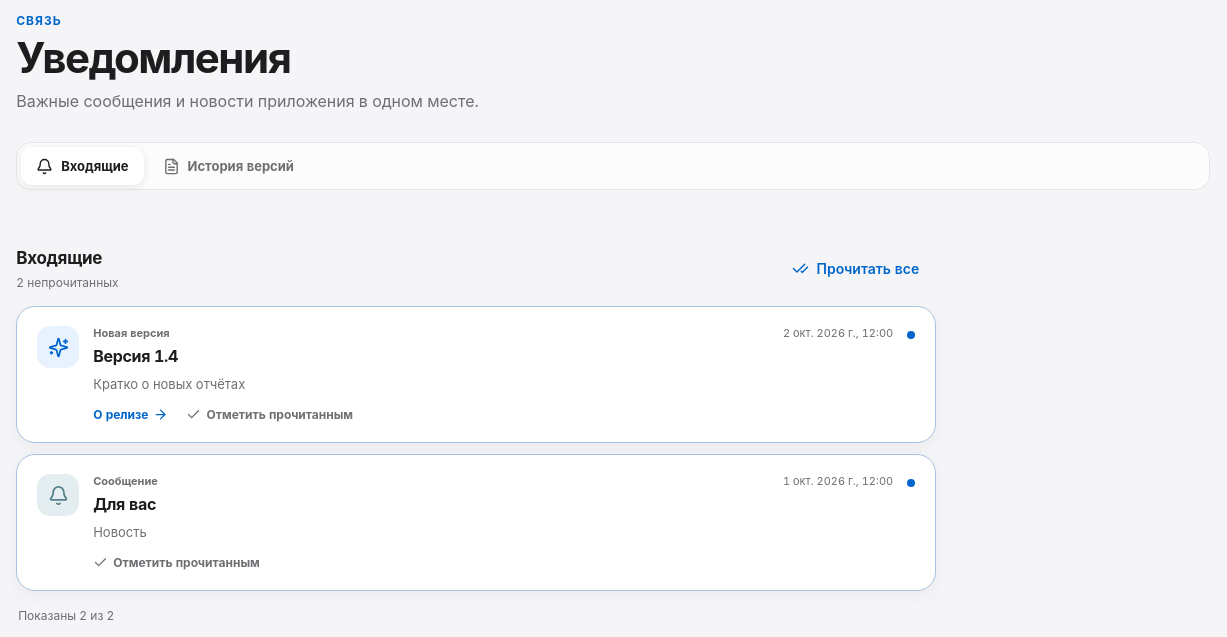
Scenario: notifications page › marks all notifications read and links a release to its full page
Expected: the text "Кратко о новых отчётах" is shown, [93,376,245,392]
Click the button "Прочитать все": (855, 269) [774,247,936,291]
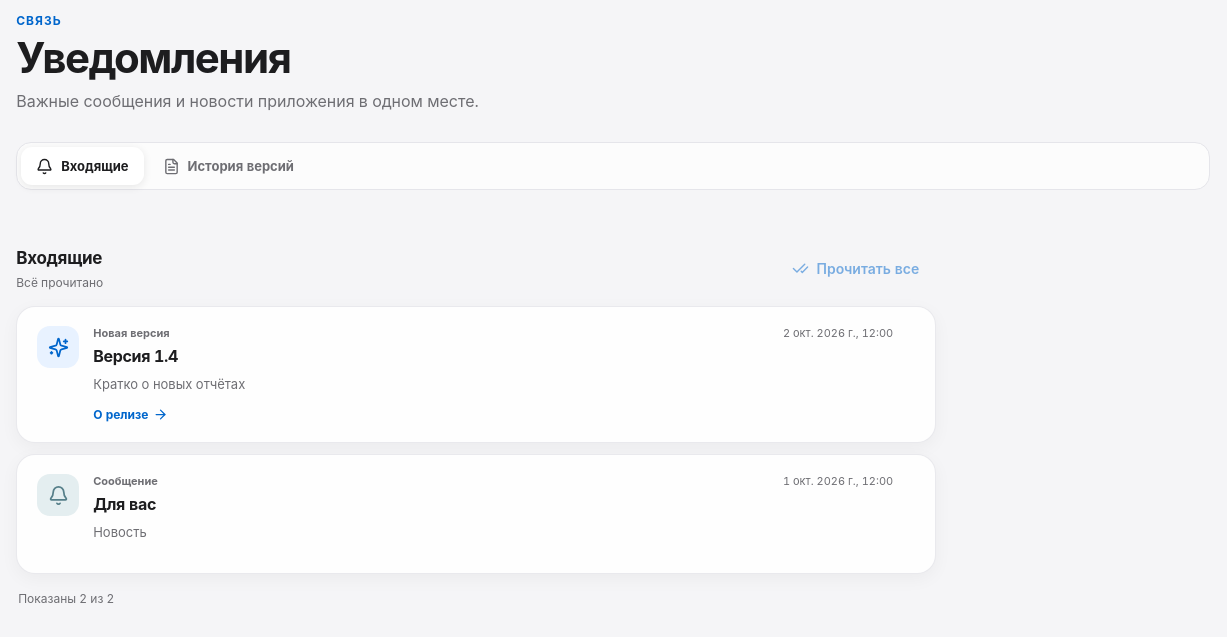
Now the text "Всё прочитано" is shown, box [16,274,103,292]
Now the button "Прочитать все" is disabled, box [774,247,936,291]
